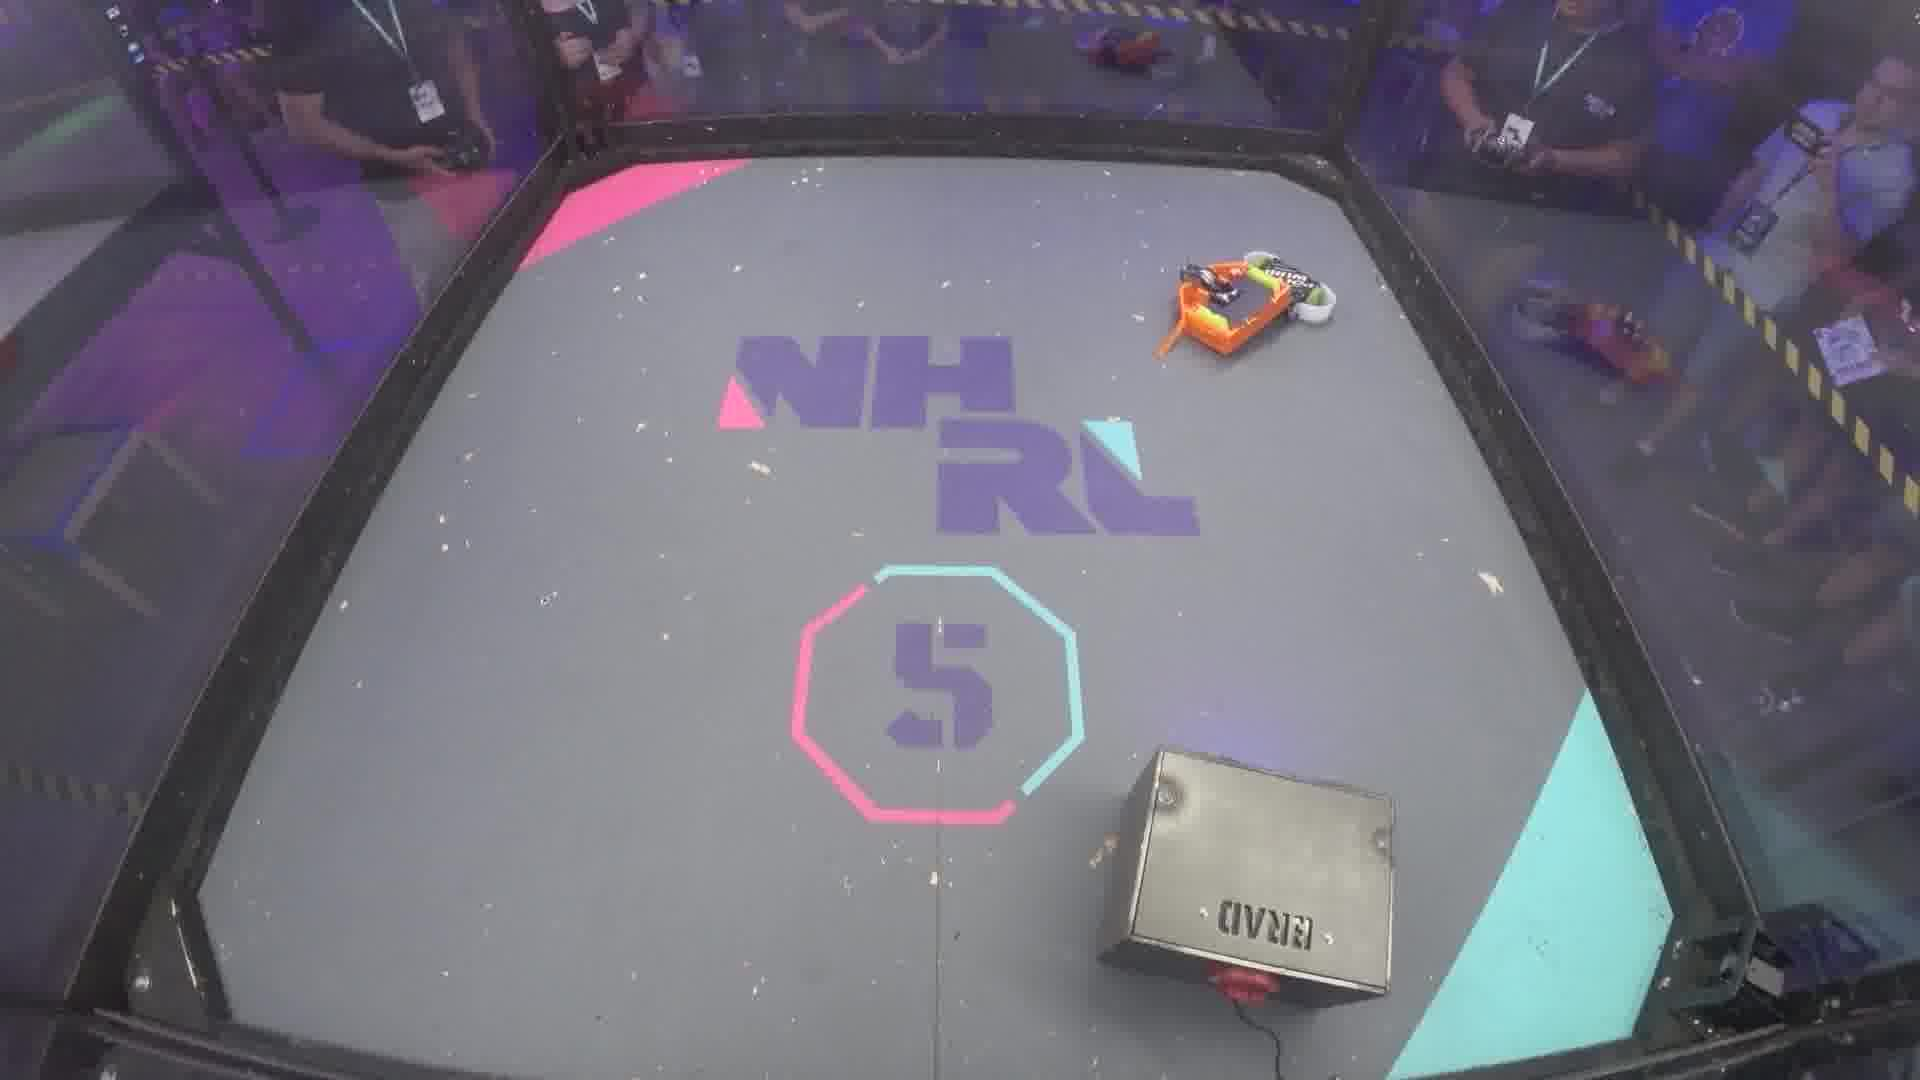belt: (1237, 1006, 1287, 1080)
combatbot: (1178, 260, 1291, 353), (1249, 251, 1335, 320)
housebot: (1101, 749, 1399, 1002)
